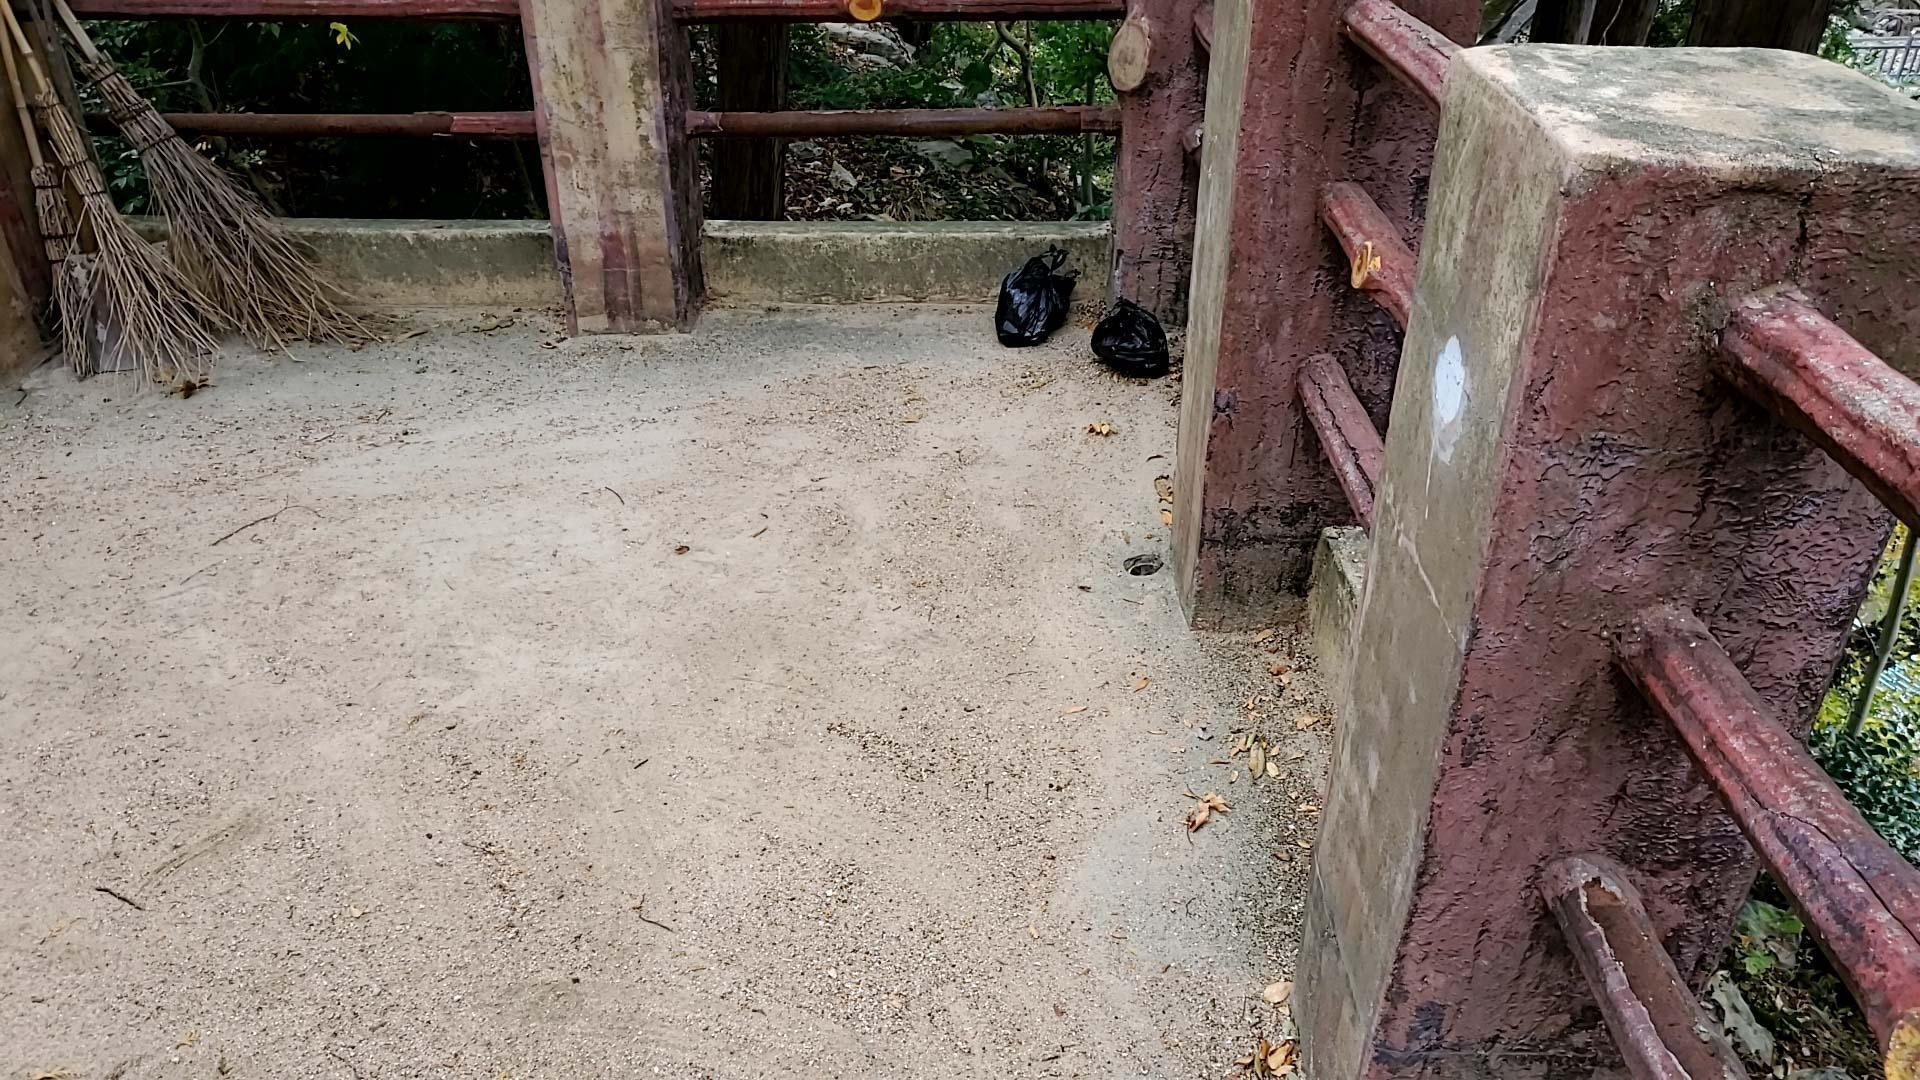black_bag: (988, 237, 1077, 353), (1083, 291, 1174, 382)
